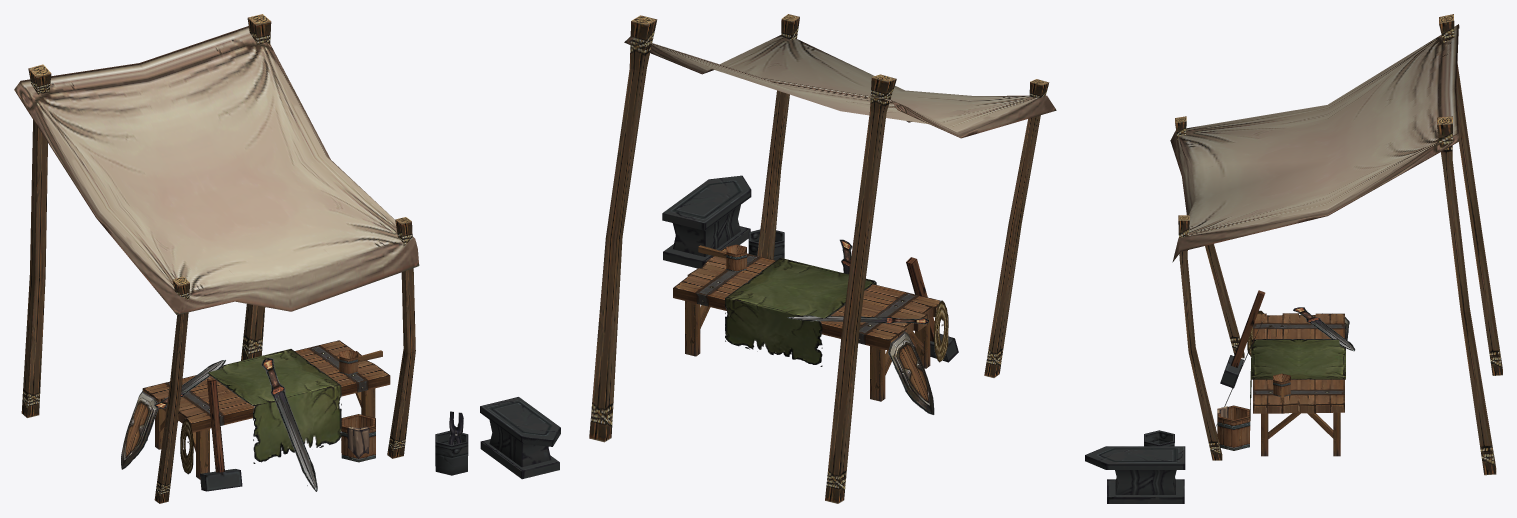
The model's file is 2_WGJ_HuoTan_01.FBX.
The picture shows the model from 3 angles, left to right: view 1: azimuth 30°, elevation 25°; view 2: azimuth 150°, elevation 25°; view 3: azimuth 270°, elevation 25°; orthographic projection. The views are drawn at different scales.
Visible parts, largest first — view 1: 2_WGJ_HuoTan_01, 2_WGJ_HuoTan_02, 2_WGJ_HuoTan_03; view 2: 2_WGJ_HuoTan_01, 2_WGJ_HuoTan_02, 2_WGJ_HuoTan_03; view 3: 2_WGJ_HuoTan_01, 2_WGJ_HuoTan_02, 2_WGJ_HuoTan_03.
Part boxes in pixels (x1=…): 2_WGJ_HuoTan_01: x1=14, y1=14, x2=419, y2=503; 2_WGJ_HuoTan_02: x1=121, y1=340, x2=390, y2=491; 2_WGJ_HuoTan_03: x1=435, y1=397, x2=560, y2=479; 2_WGJ_HuoTan_01: x1=589, y1=14, x2=1056, y2=503; 2_WGJ_HuoTan_02: x1=673, y1=239, x2=958, y2=414; 2_WGJ_HuoTan_03: x1=662, y1=175, x2=784, y2=268; 2_WGJ_HuoTan_01: x1=1170, y1=14, x2=1502, y2=475; 2_WGJ_HuoTan_02: x1=1215, y1=290, x2=1355, y2=456; 2_WGJ_HuoTan_03: x1=1085, y1=430, x2=1185, y2=503.
Bounding box in the file's own units: 626 × 618 × 671.
Materials: 1 (1 with a texture image).
